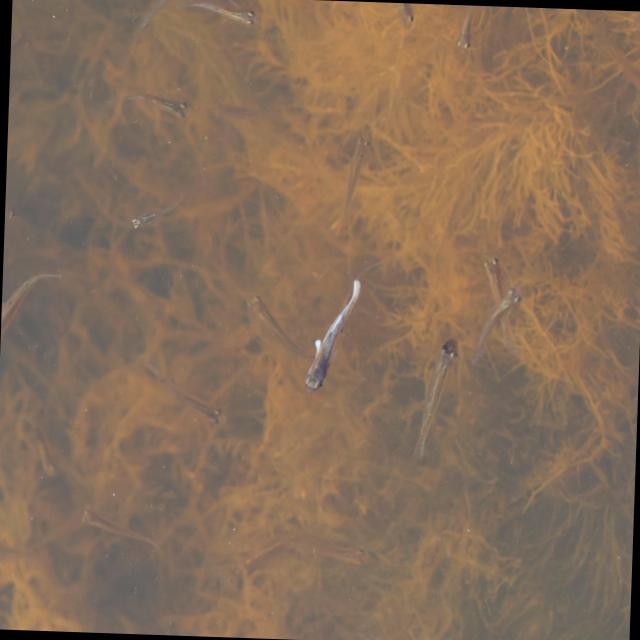Sivrisinek Baligi: (294, 275, 366, 400), (468, 276, 529, 360), (414, 338, 452, 461), (283, 531, 378, 574), (72, 511, 161, 552), (338, 118, 376, 212), (436, 4, 488, 58), (125, 190, 181, 230), (131, 85, 188, 124), (184, 1, 262, 26)
